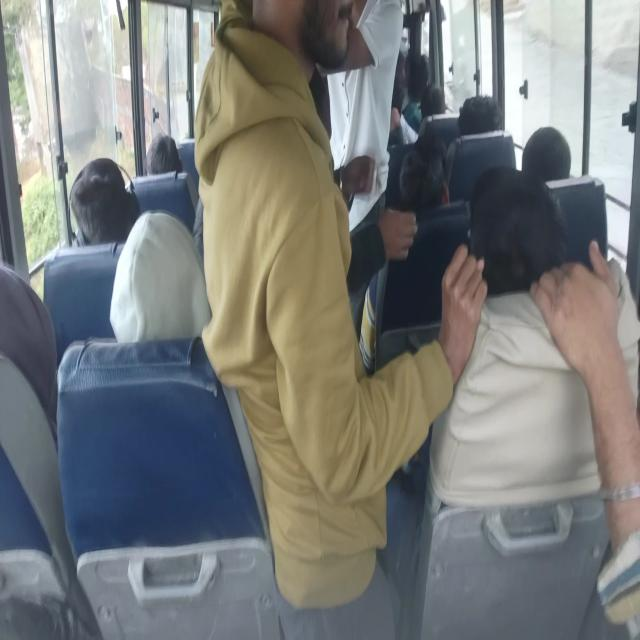person: (193, 0, 489, 616), (428, 164, 638, 510), (528, 238, 639, 636), (313, 0, 407, 346), (109, 209, 212, 343), (69, 157, 140, 247), (521, 125, 571, 183), (145, 132, 183, 175)
